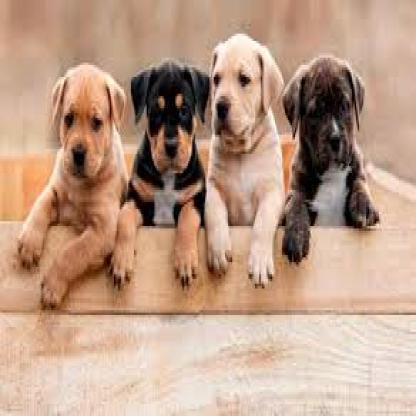dog: (16, 58, 125, 303), (114, 58, 205, 286), (282, 53, 380, 262), (207, 34, 285, 286)
